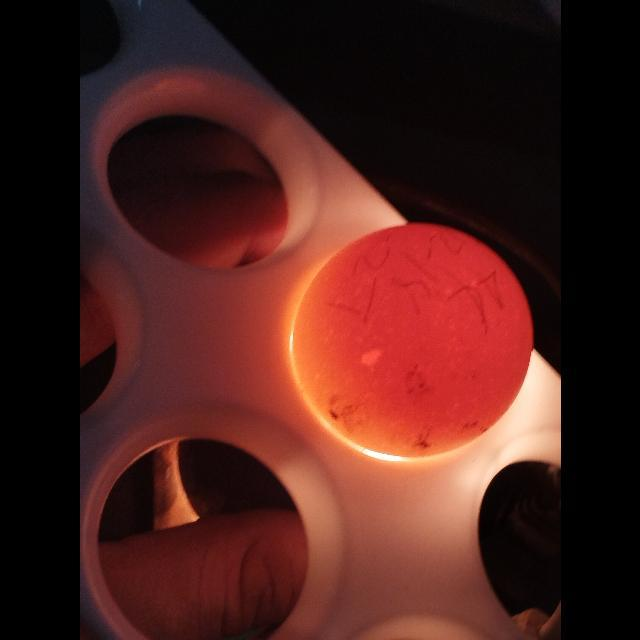Infertile: (288, 220, 536, 460)
